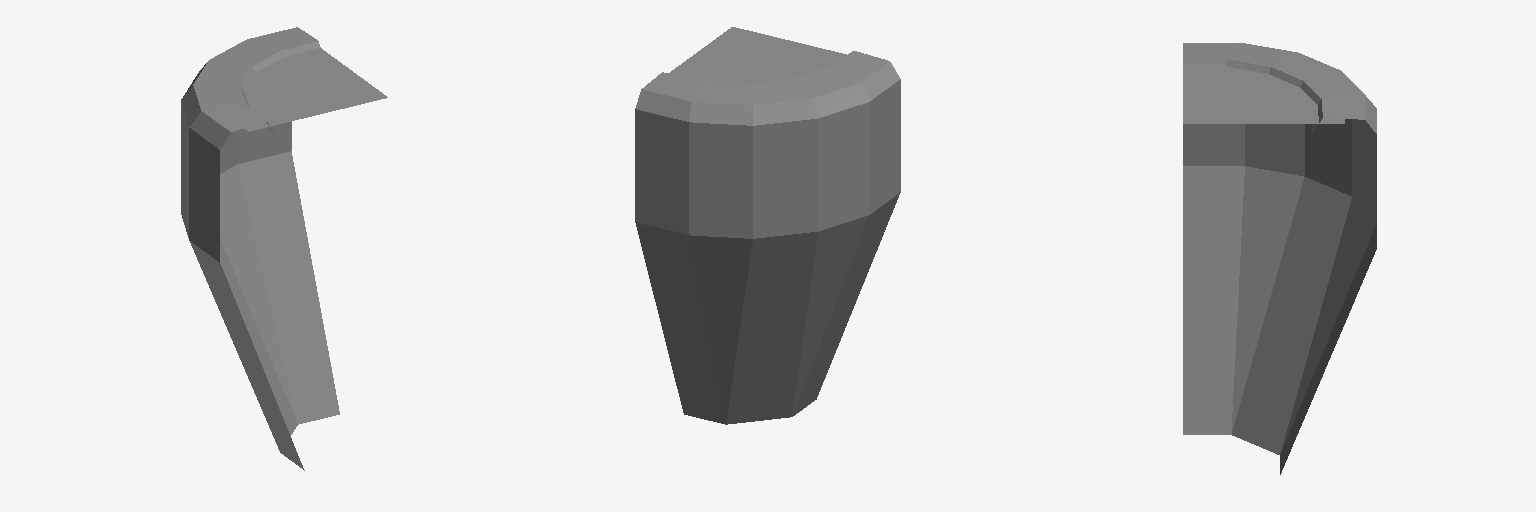
File: wall_corner_convex_c.obj
The picture shows the model from 3 angles: view 1: azimuth 30°, elevation 25°; view 2: azimuth 150°, elevation 25°; view 3: azimuth 270°, elevation 25°; orthographic projection.
Parts seen in each view (by area): view 1: wall_corner_convex_c; view 2: wall_corner_convex_c; view 3: wall_corner_convex_c.
Boxes of the visible parts, box(x1,y1,x2,y2) form: wall_corner_convex_c: box(181, 27, 387, 470); wall_corner_convex_c: box(635, 27, 900, 424); wall_corner_convex_c: box(1183, 43, 1376, 474).
Bounding box in the file's own units: 200 × 406 × 200.